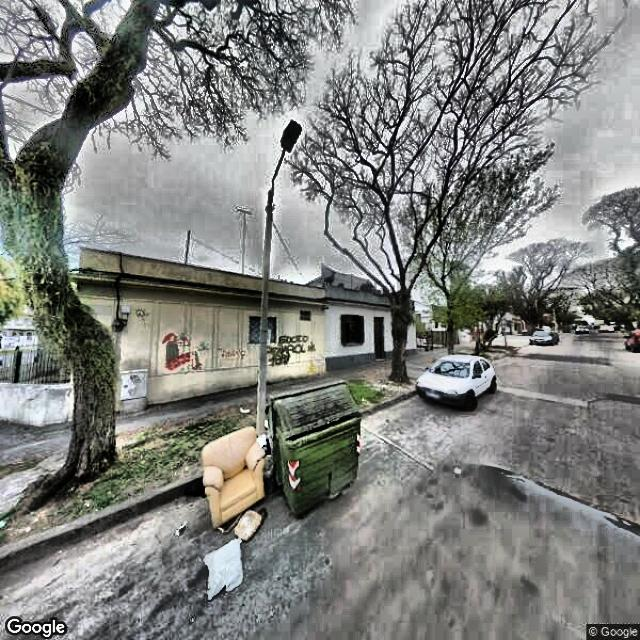garbage: (184, 430, 271, 606)
